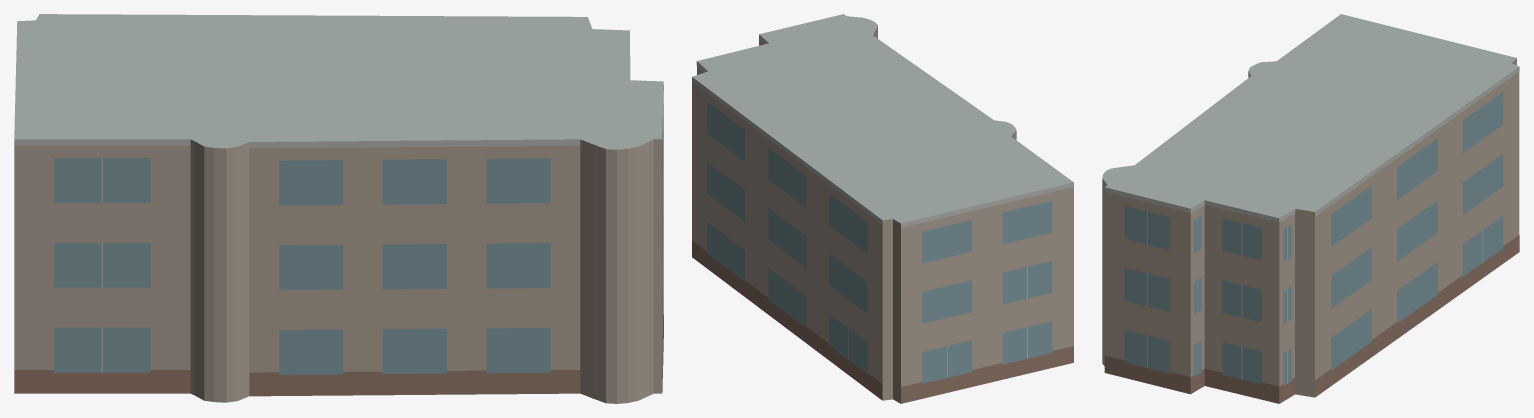
File: survey-upis-32874092.glb
3 renders of one model, left to right at view 1: azimuth 30°, elevation 25°; view 2: azimuth 150°, elevation 25°; view 3: azimuth 270°, elevation 25°, orthographic. The views are drawn at different scales.
Parts seen in each view (by area): view 1: survey-upis-32874092.tmp; view 2: survey-upis-32874092.tmp; view 3: survey-upis-32874092.tmp.
Part boxes in pixels (box(x1,y1,x2,y2)): survey-upis-32874092.tmp: box(14, 14, 663, 403); survey-upis-32874092.tmp: box(692, 14, 1073, 403); survey-upis-32874092.tmp: box(1102, 14, 1519, 403).
Size of the model in its own units: 22.91 by 9.7 by 19.75.
